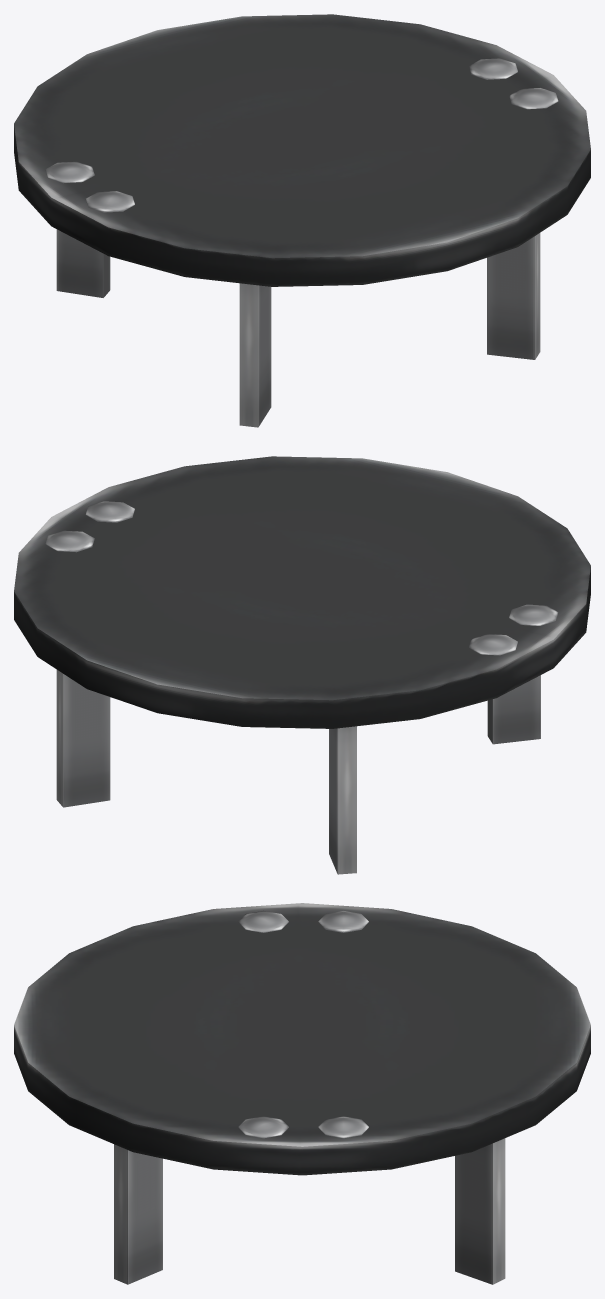
Rendered from MidcenturyRoundTable_HD.fbx.
The picture shows the model from 3 angles, top to bottom: view 1: azimuth 30°, elevation 25°; view 2: azimuth 150°, elevation 25°; view 3: azimuth 270°, elevation 25°; orthographic projection.
Parts seen in each view (by area): view 1: MidcenturyRoundTable; view 2: MidcenturyRoundTable; view 3: MidcenturyRoundTable.
Part boxes in pixels (x1=…): MidcenturyRoundTable: x1=14, y1=14, x2=590, y2=427; MidcenturyRoundTable: x1=14, y1=456, x2=590, y2=874; MidcenturyRoundTable: x1=14, y1=903, x2=590, y2=1284.
Size of the model in its own units: 1.69 by 0.6159 by 1.69.
